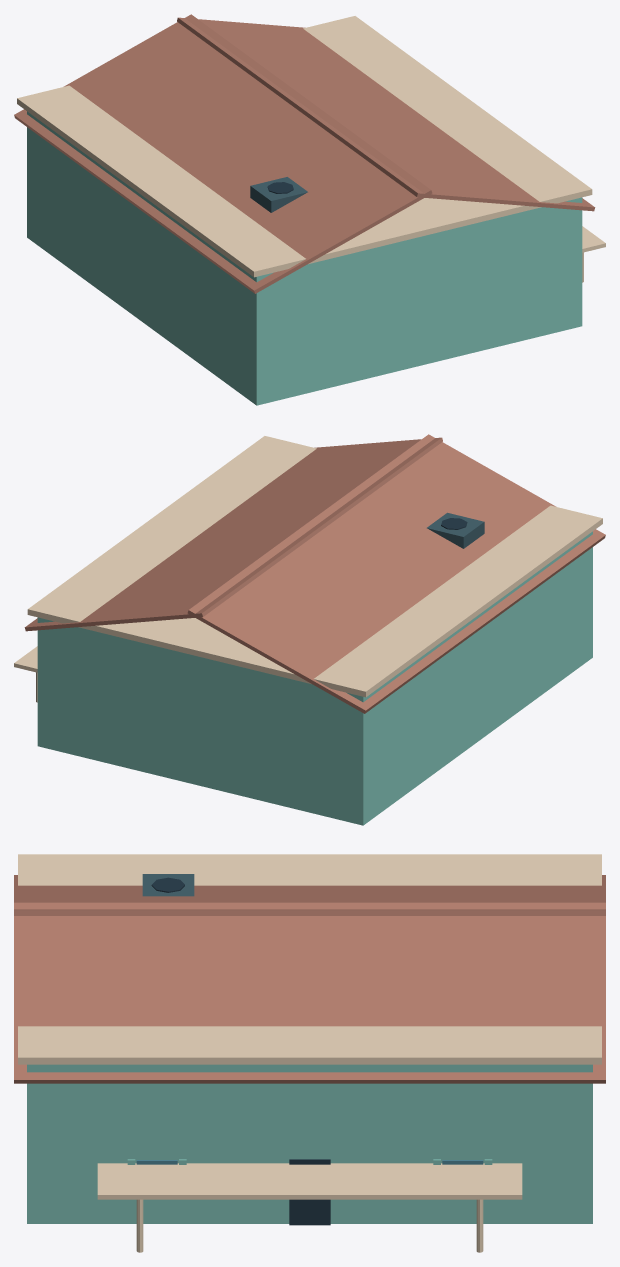
The model's file is building-villa.obj.
3 renders of one model, top to bottom at view 1: azimuth 30°, elevation 25°; view 2: azimuth 150°, elevation 25°; view 3: azimuth 270°, elevation 25°, orthographic. The views are drawn at different scales.
Parts seen in each view (by area): view 1: building-villa; view 2: building-villa; view 3: building-villa.
Part boxes in pixels (x1,y1,x2,y2): building-villa: (14,14,605,405); building-villa: (14,434,605,825); building-villa: (14,854,605,1252).
Bounding box in the file's own units: 21.33 × 9.41 × 23.
